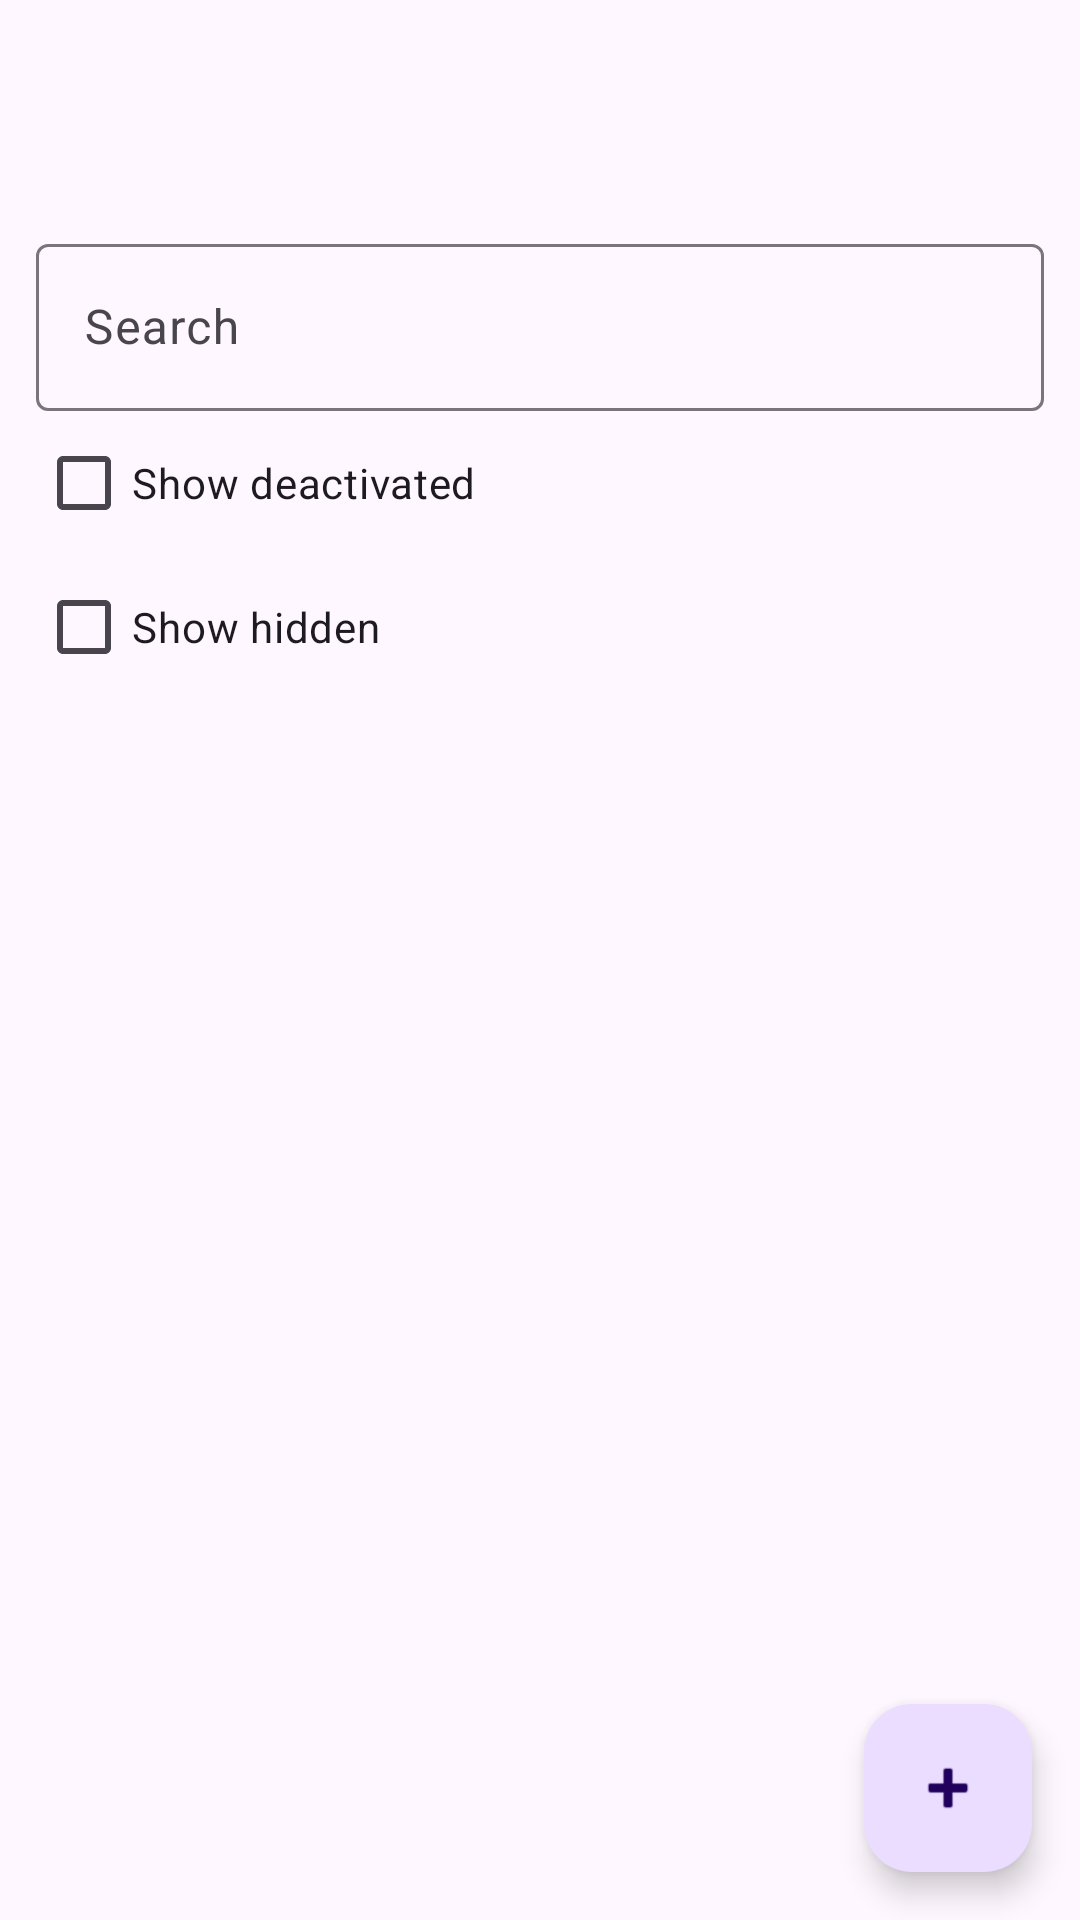

Named icons in this screenshot (1080px x 1920px) and their centers, point (x, y):
Create: point (948, 1788)
